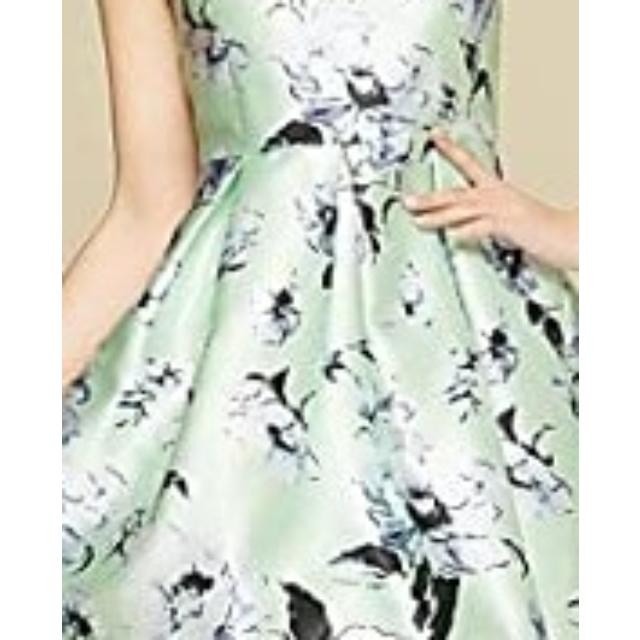polyester: (108, 0, 520, 640)
